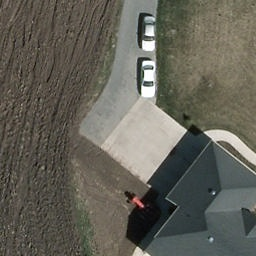car: (141, 16, 157, 53), (140, 62, 156, 97)
tractor: (124, 191, 165, 228)
